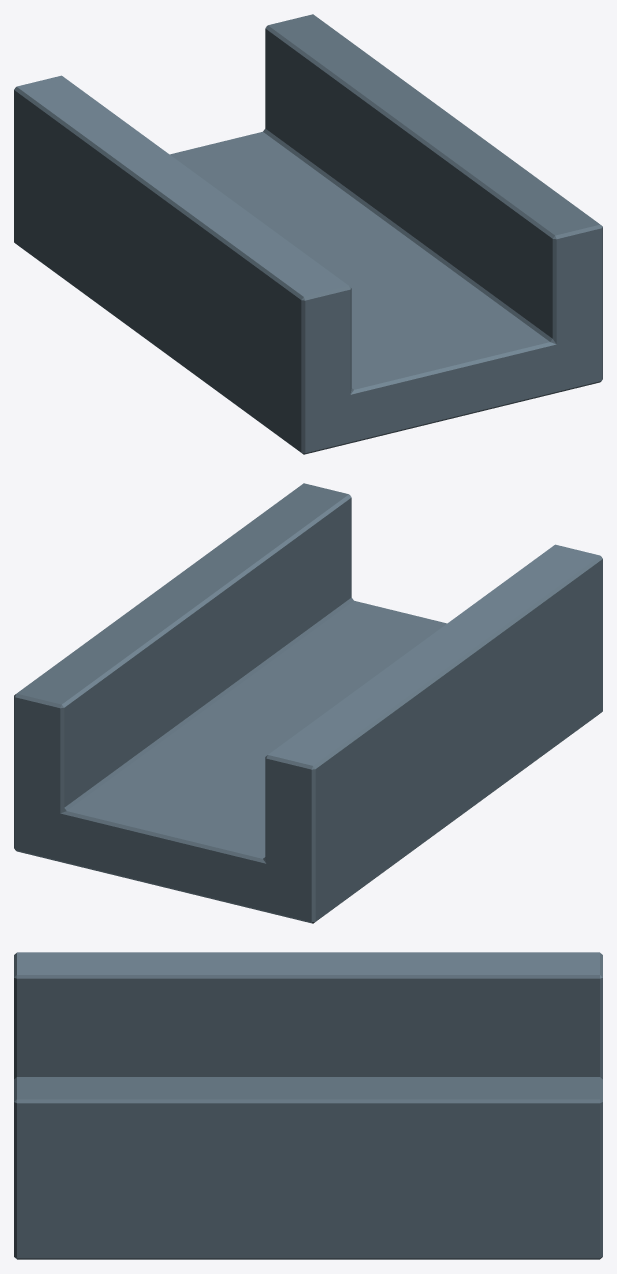
The model's file is P30_U_Channel.fbx.
The picture shows the model from 3 angles, top to bottom: view 1: azimuth 30°, elevation 25°; view 2: azimuth 150°, elevation 25°; view 3: azimuth 270°, elevation 25°; orthographic projection.
Visible parts, largest first — view 1: P30_U_Channel; view 2: P30_U_Channel; view 3: P30_U_Channel.
Part boxes in pixels (x1=…): P30_U_Channel: x1=14, y1=14, x2=602, y2=454; P30_U_Channel: x1=14, y1=483, x2=602, y2=923; P30_U_Channel: x1=14, y1=952, x2=602, y2=1259.
Bounding box in the file's own units: 1.2 × 0.6 × 2.
Materials: 1 (1 with a texture image).
